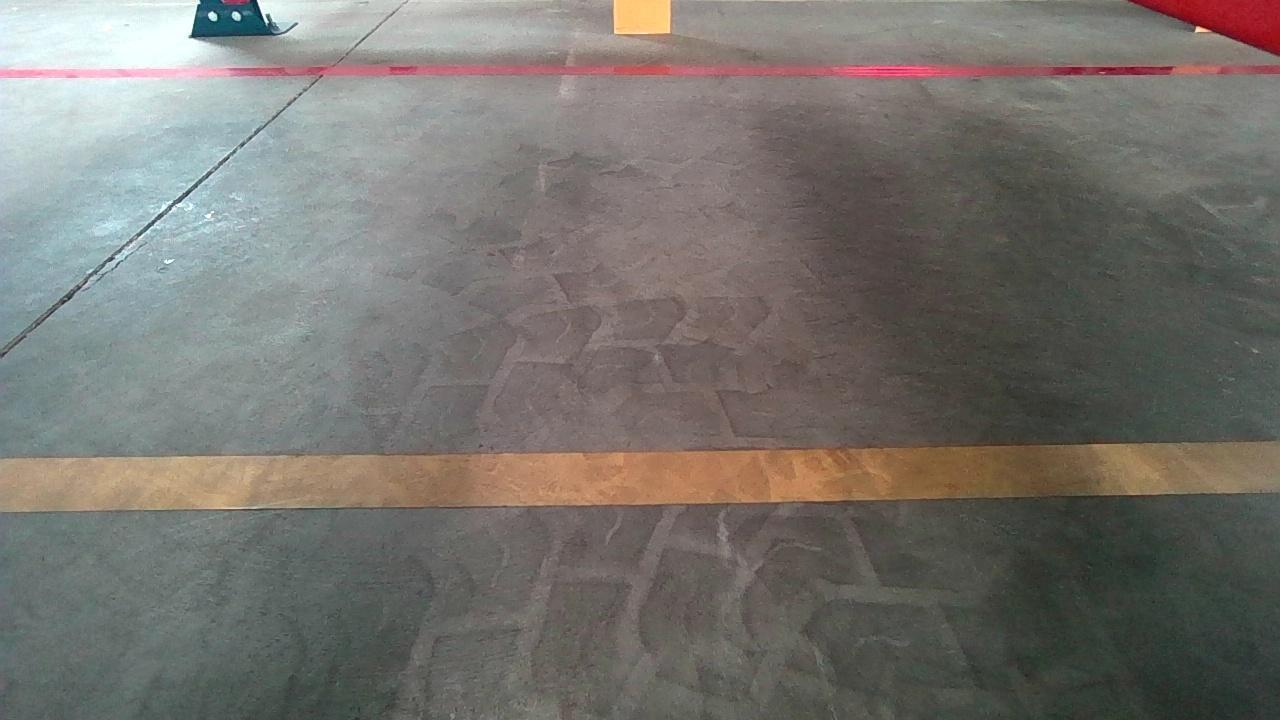red_line: (24, 60, 1256, 85)
